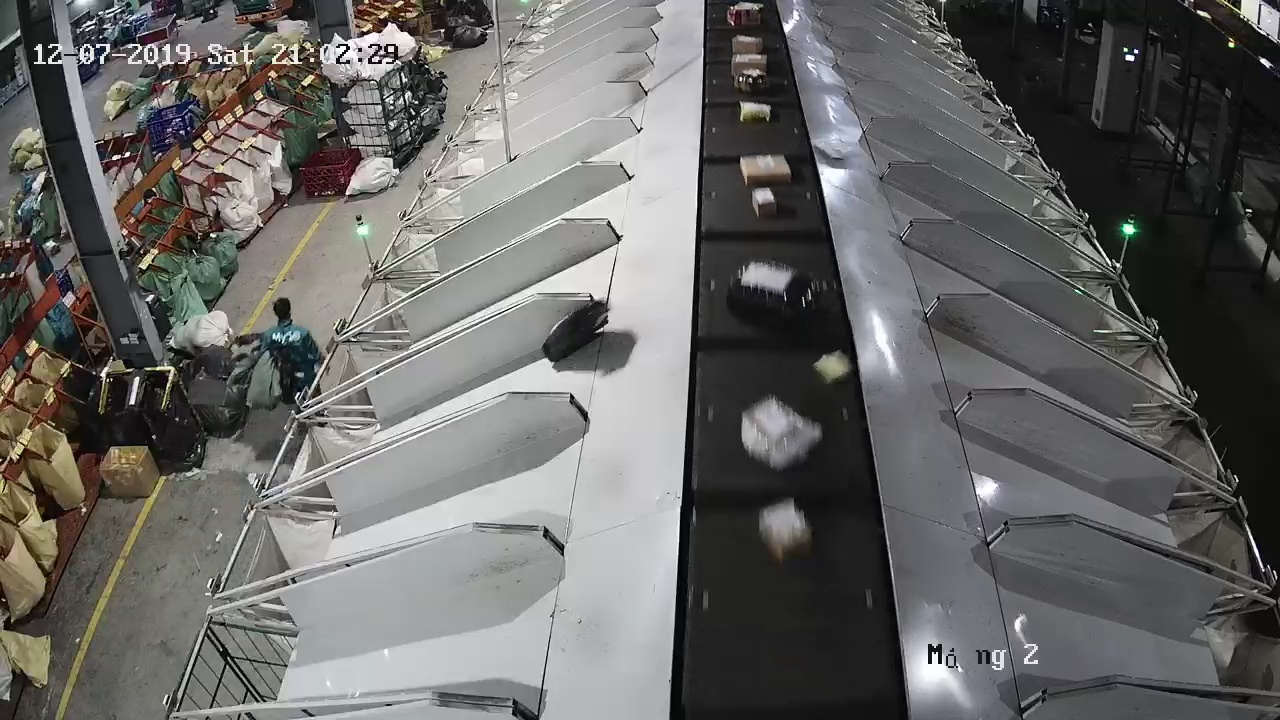parcel: (539, 301, 609, 363), (811, 348, 854, 387), (812, 138, 846, 163)
